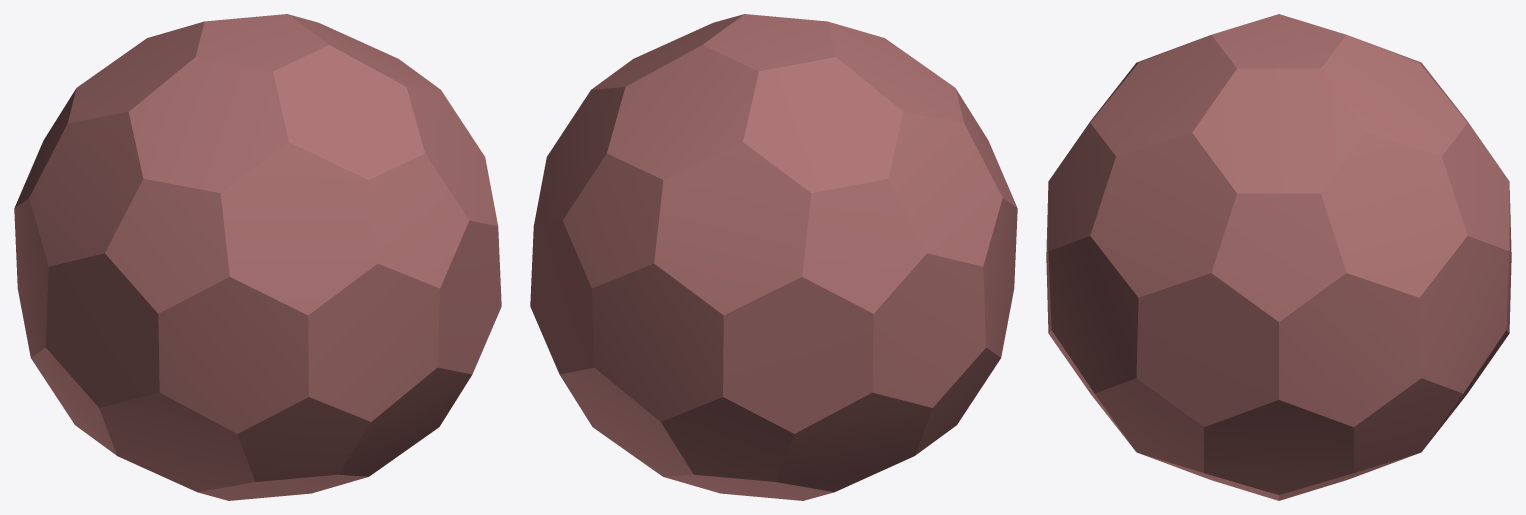
The model's file is Crystal_col.fbx.
3 renders of one model, left to right at view 1: azimuth 30°, elevation 25°; view 2: azimuth 150°, elevation 25°; view 3: azimuth 270°, elevation 25°, orthographic.
Parts seen in each view (by area): view 1: Out1; view 2: Out1; view 3: Out1.
Part boxes in pixels (bbox=[...]): Out1: bbox=[14, 14, 501, 500]; Out1: bbox=[530, 14, 1017, 500]; Out1: bbox=[1046, 14, 1511, 500].
Bounding box in the file's own units: 2.26 × 2.22 × 2.17.
